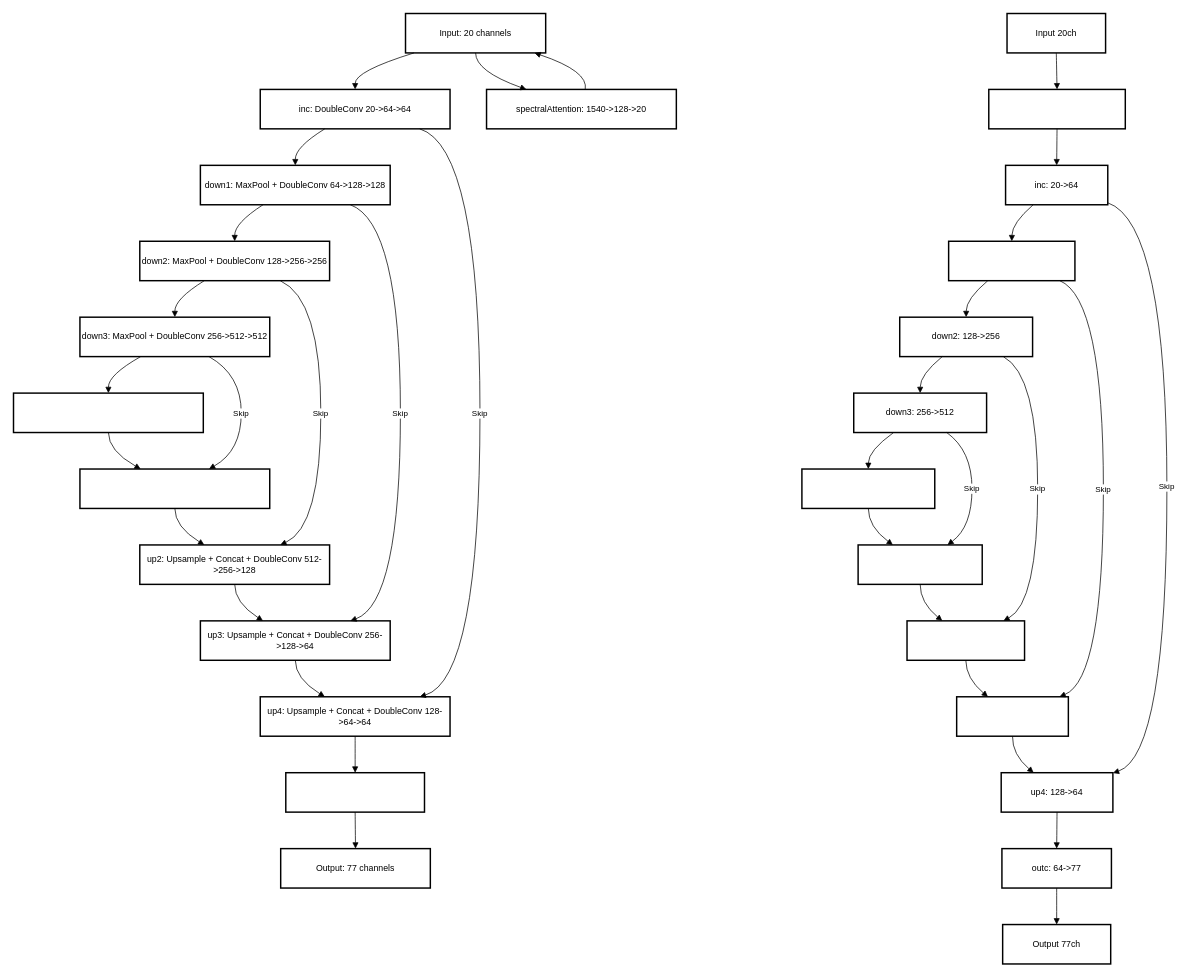
This 1188x977 diagram has some shape labels left out. Here are the shapes that lost their labels. From the top down, the box of each, then its label:
(988, 88, 1126, 129): SpectralAttention
(948, 240, 1075, 281): down1: 64->128
(12, 392, 204, 433): down4: MaxPool + DoubleConv 512->512->512
(79, 468, 270, 509): up1: Upsample + Concat + DoubleConv 1024->512->256
(801, 468, 935, 509): down4: 512->512
(857, 544, 983, 585): up1: 1024->256
(906, 620, 1025, 661): up2: 512->128
(956, 696, 1069, 737): up3: 256->64
(285, 772, 425, 812): outc: Conv 64->77
